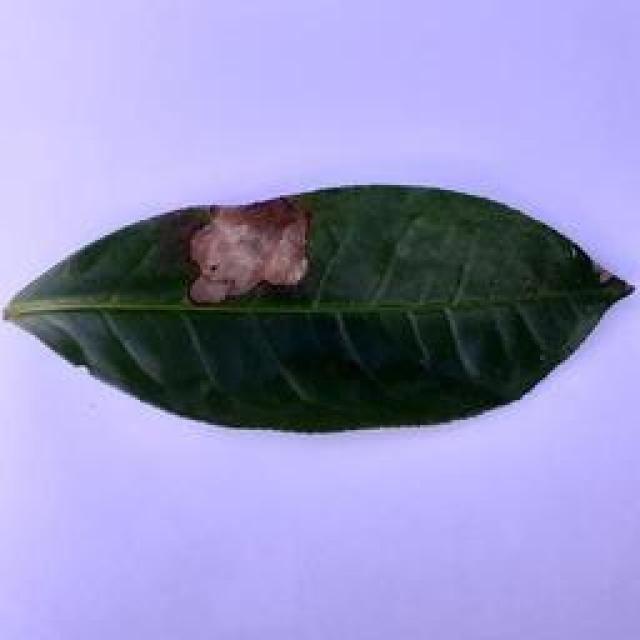Gray Blight: (2, 178, 637, 433)
